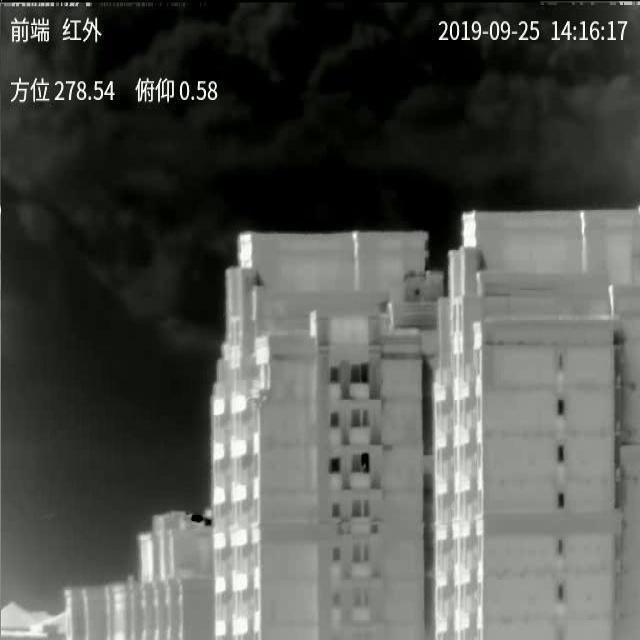drone: (247, 395, 269, 409)
